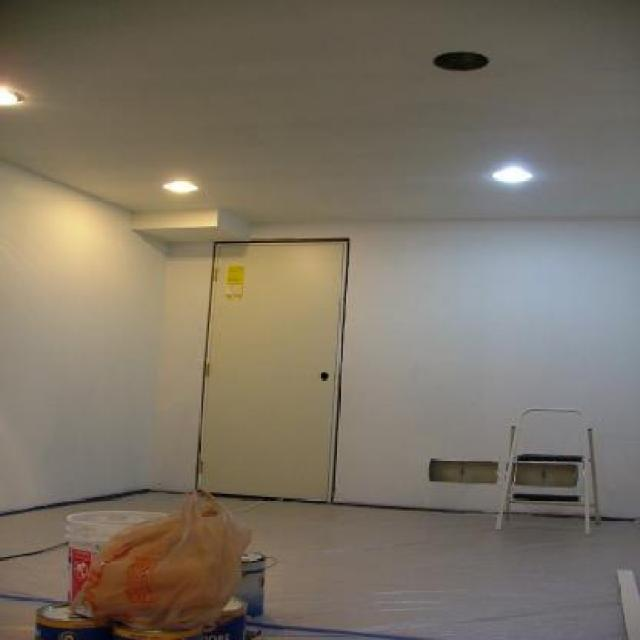plastic bag: (68, 485, 250, 632)
